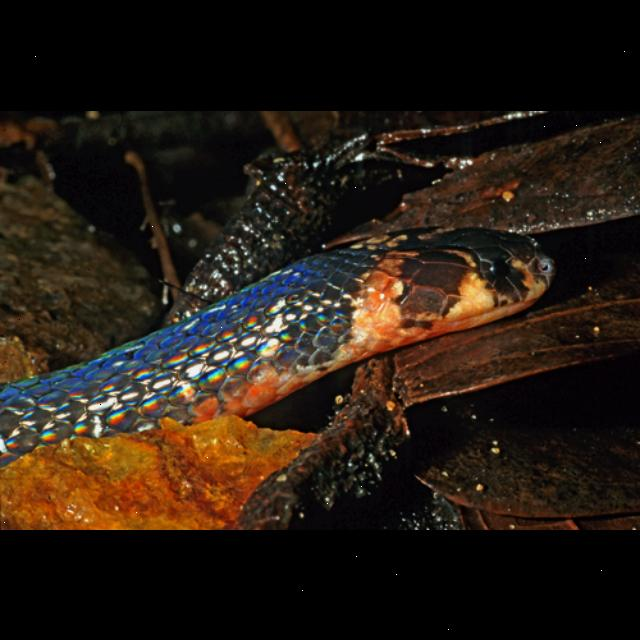snake: (0, 213, 562, 475)
